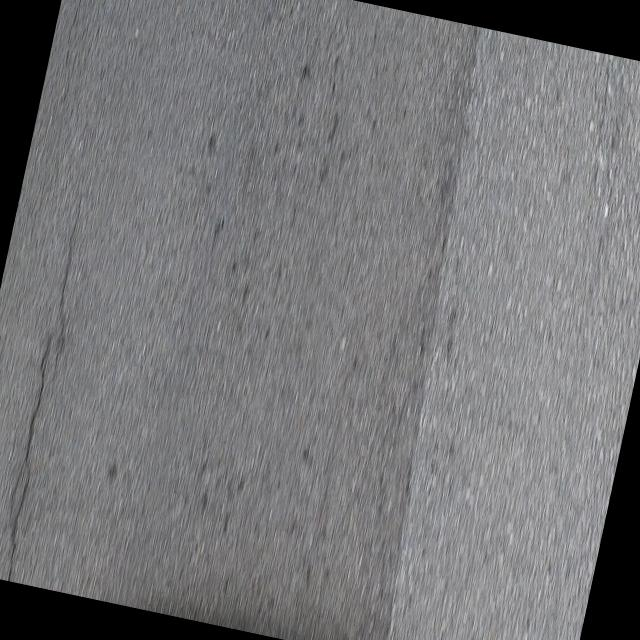Retak-Memanjang: (1, 218, 83, 583)
